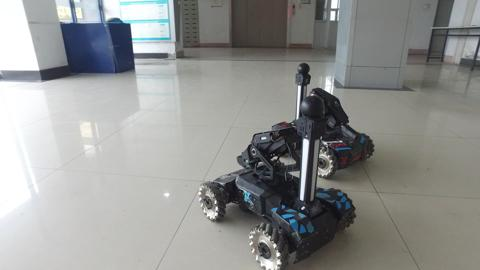chariot: (196, 98, 356, 270), (280, 60, 374, 179)
